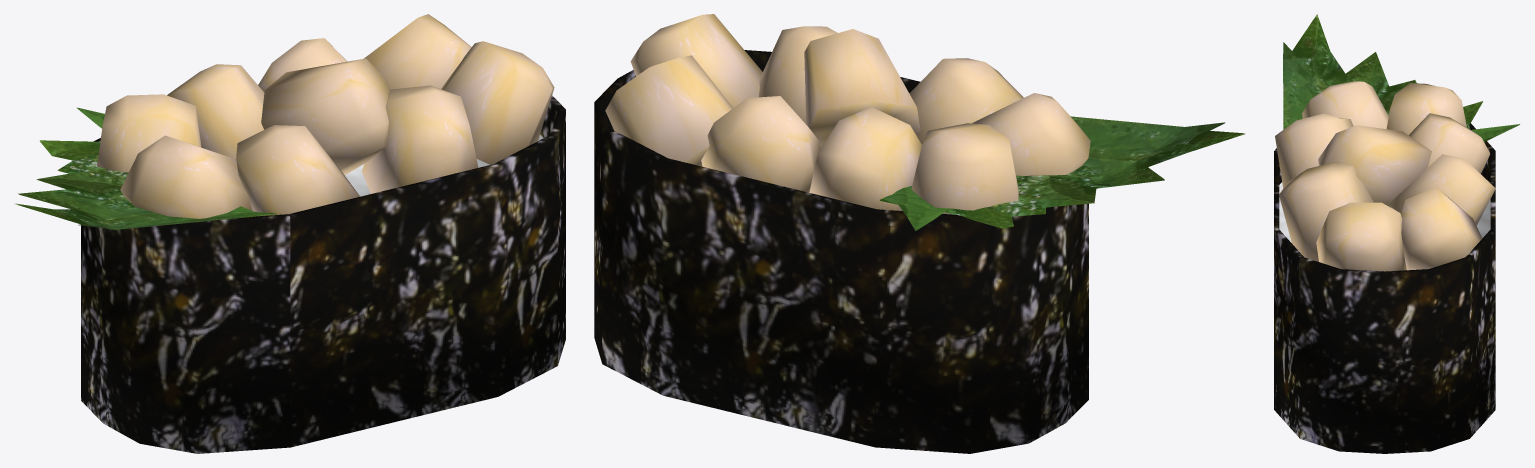
The model's file is adductor_muscles.fbx.
3 views of the same model, side by side, from view 1: azimuth 30°, elevation 25°; view 2: azimuth 150°, elevation 25°; view 3: azimuth 270°, elevation 25° (orthographic). The views are drawn at different scales.
Parts seen in each view (by area): view 1: adductor_muscles; view 2: adductor_muscles; view 3: adductor_muscles.
Boxes of the visible parts, <box> form: adductor_muscles: <box>15,14,565,453</box>; adductor_muscles: <box>594,14,1244,453</box>; adductor_muscles: <box>1274,14,1519,453</box>.
Bounding box in the file's own units: 7.31 × 3.88 × 3.5.
